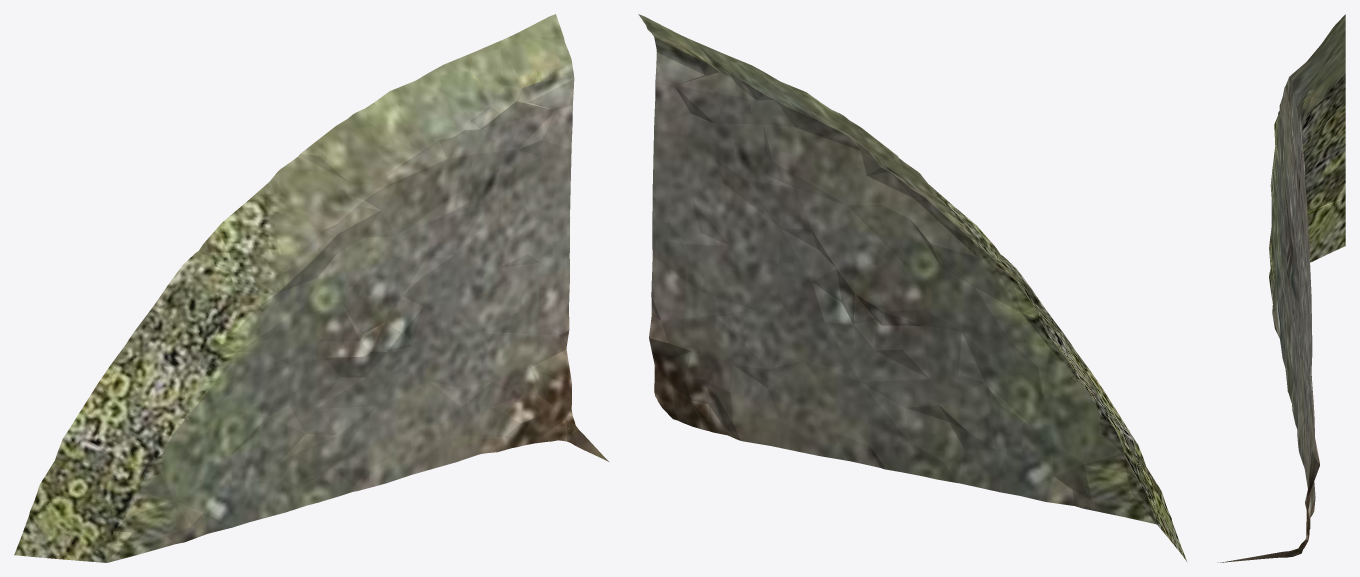
Rendered from Tile_+004_+009.obj.
The picture shows the model from 3 angles, left to right: view 1: azimuth 30°, elevation 25°; view 2: azimuth 150°, elevation 25°; view 3: azimuth 270°, elevation 25°; orthographic projection. The views are drawn at different scales.
Bounding box in the file's own units: 0.5425 × 0.3913 × 0.0937.
1 material, 1 textured.
